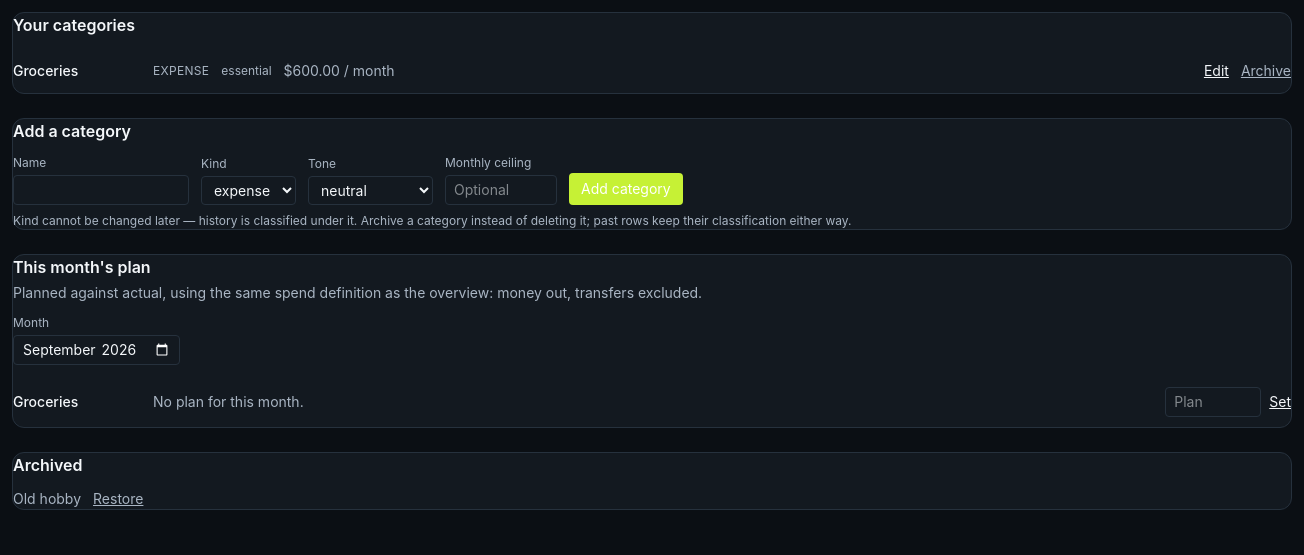
Test: the budget categories panel › reports a failed save instead of pretending
This screenshot has width=1304, height=555.
Click the button "Archive".
click(1266, 71)  # box [1241, 61, 1291, 81]
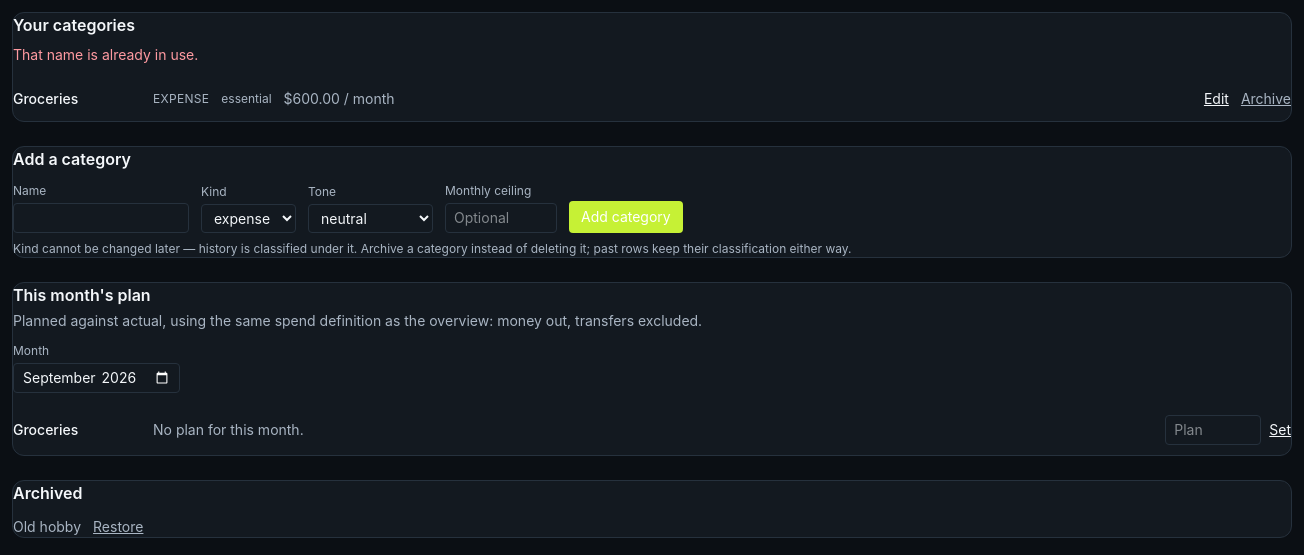
Expected: the message reads "That name is already in use.", [13, 46, 198, 63]
